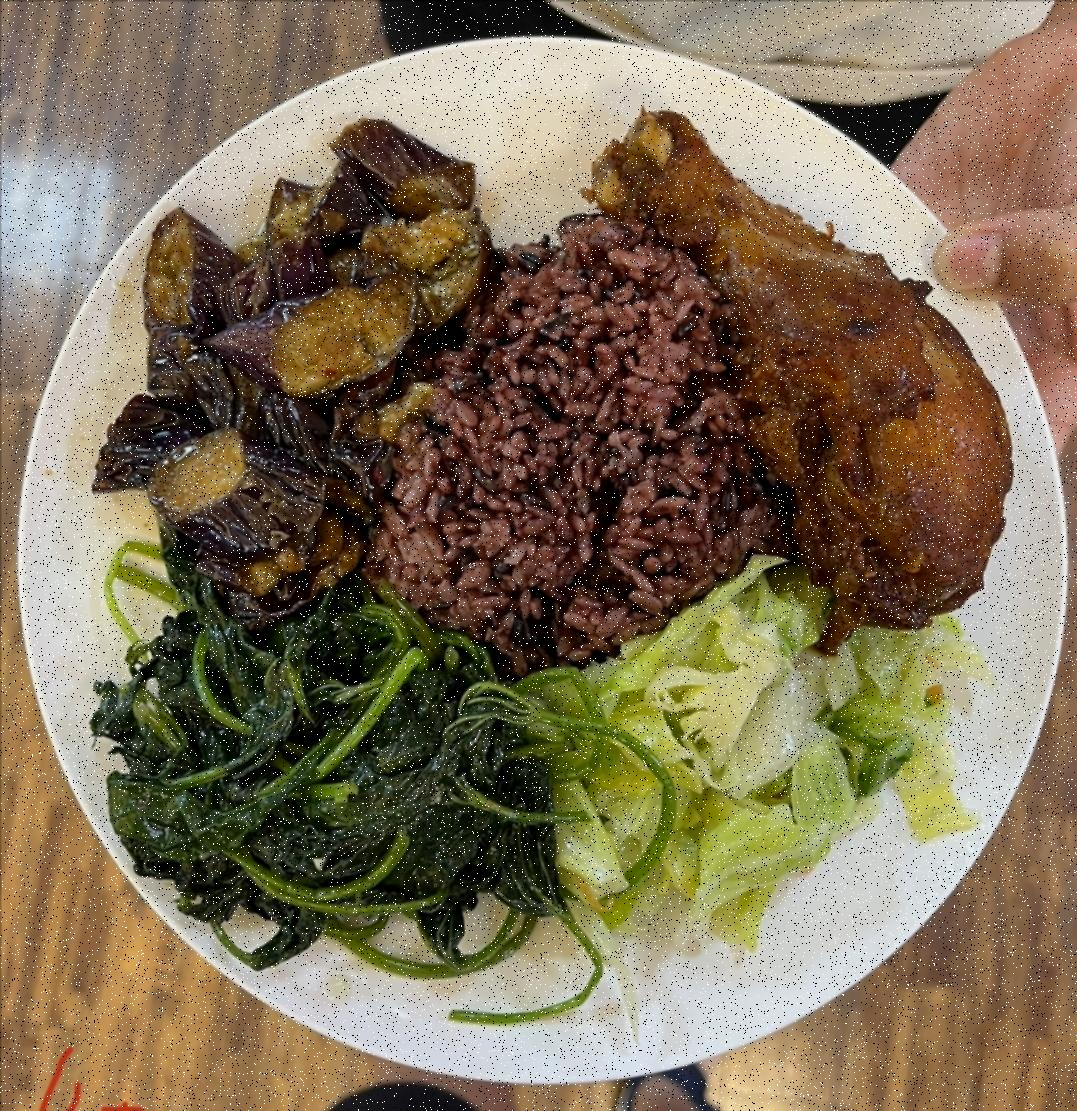honey grilled chicken leg: (606, 118, 1020, 625)
plate: (13, 23, 1065, 1099)
purple rice: (361, 200, 738, 674)
side dish: (100, 106, 486, 620), (508, 558, 986, 931), (96, 580, 538, 962)
